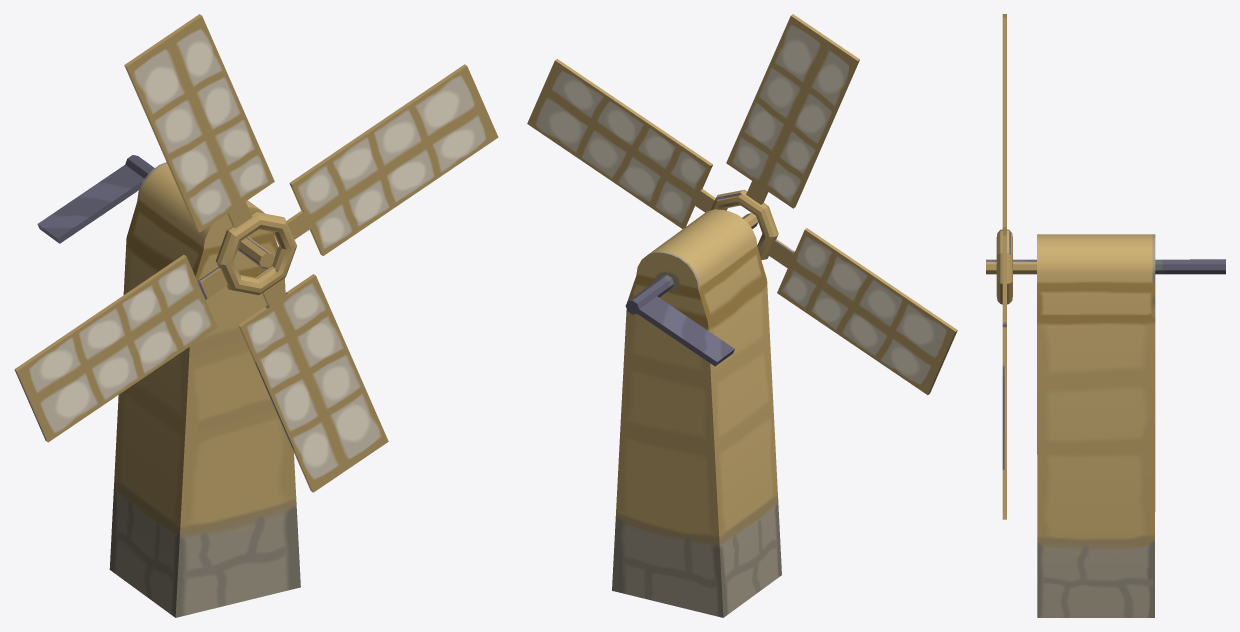
Rendered from windmill.fbx.
3 views of the same model, side by side, from view 1: azimuth 30°, elevation 25°; view 2: azimuth 150°, elevation 25°; view 3: azimuth 270°, elevation 25° (orthographic). The views are drawn at different scales.
Visible parts, largest first — view 1: RotatingPart, Windmill; view 2: Windmill, RotatingPart; view 3: Windmill, RotatingPart.
Boxes of the visible parts, x1,y1,x2,y2 form: RotatingPart: (14, 14, 498, 492); Windmill: (109, 162, 300, 617); Windmill: (612, 209, 781, 617); RotatingPart: (527, 14, 957, 394); Windmill: (1037, 234, 1155, 617); RotatingPart: (986, 14, 1225, 519).
Size of the model in its own units: 1522 by 1856 by 735.
Materials: 1 (1 with a texture image).
